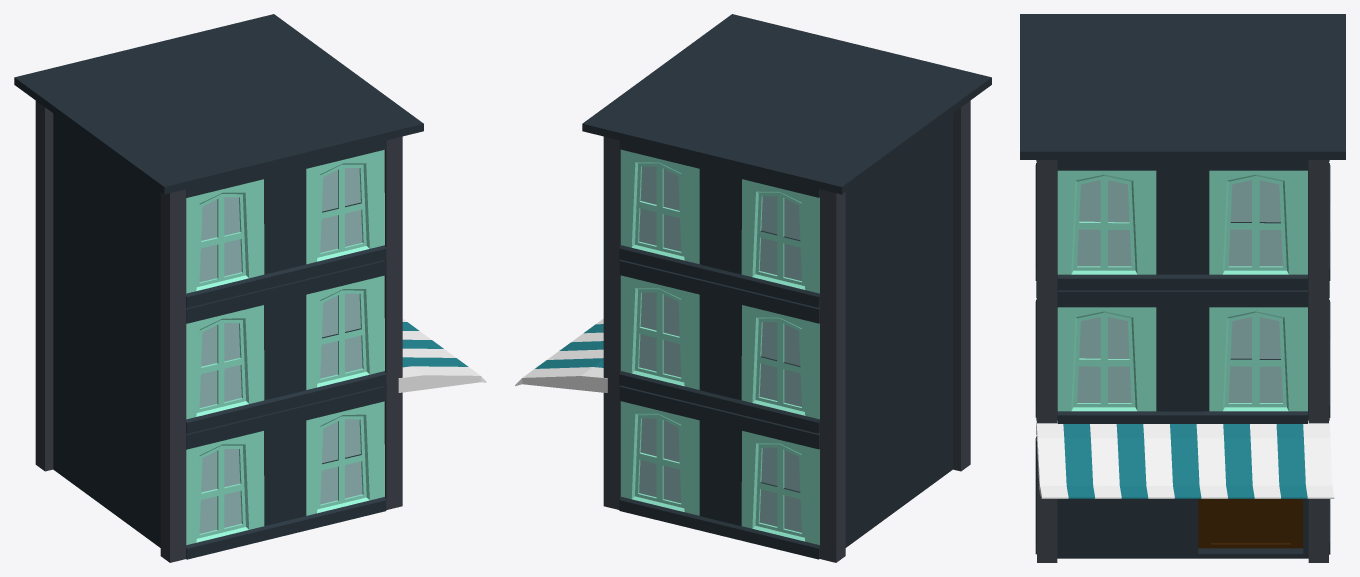
Rendered from buildings_2.fbx_3Story_-_LightBlue.fbx.
3 renders of one model, left to right at view 1: azimuth 30°, elevation 25°; view 2: azimuth 150°, elevation 25°; view 3: azimuth 270°, elevation 25°, orthographic. The views are drawn at different scales.
Visible parts, largest first — view 1: Cube.006; view 2: Cube.006; view 3: Cube.006.
Boxes of the visible parts, box(x1,y1,x2,y2) form: Cube.006: box(14, 14, 486, 562); Cube.006: box(515, 14, 991, 562); Cube.006: box(1020, 14, 1345, 562).
Size of the model in its own units: 1658 by 1837 by 1296.
